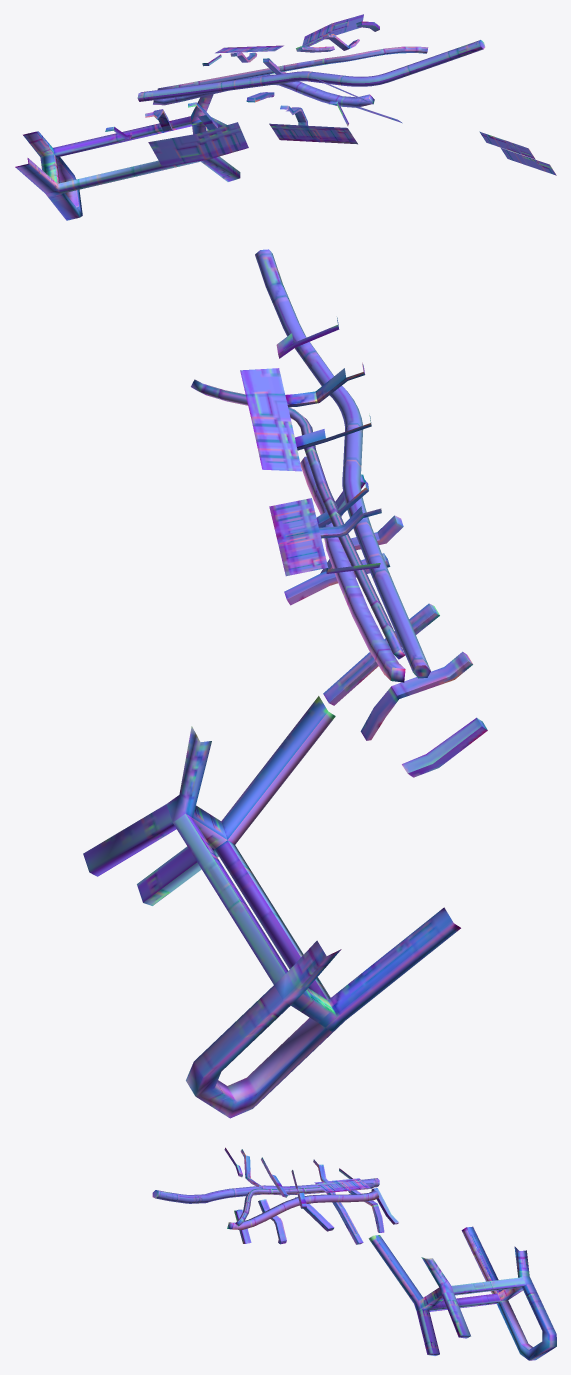
Rendered from prop_static_generic_ship_wreck_09.glb.
3 views of the same model, one above another, from view 1: azimuth 30°, elevation 25°; view 2: azimuth 150°, elevation 25°; view 3: azimuth 270°, elevation 25° (orthographic). The views are drawn at different scales.
Parts seen in each view (by area): view 1: ship_wreck_09_LOD0; view 2: ship_wreck_09_LOD0; view 3: ship_wreck_09_LOD0.
Part boxes in pixels (x1=…): ship_wreck_09_LOD0: x1=15, y1=14, x2=556, y2=220; ship_wreck_09_LOD0: x1=83, y1=249, x2=487, y2=1118; ship_wreck_09_LOD0: x1=152, y1=1147, x2=556, y2=1360.
Size of what is drawn, in the model's own units: 27.29 by 26.52 by 49.66.
Materials: 1 (1 with a texture image).
